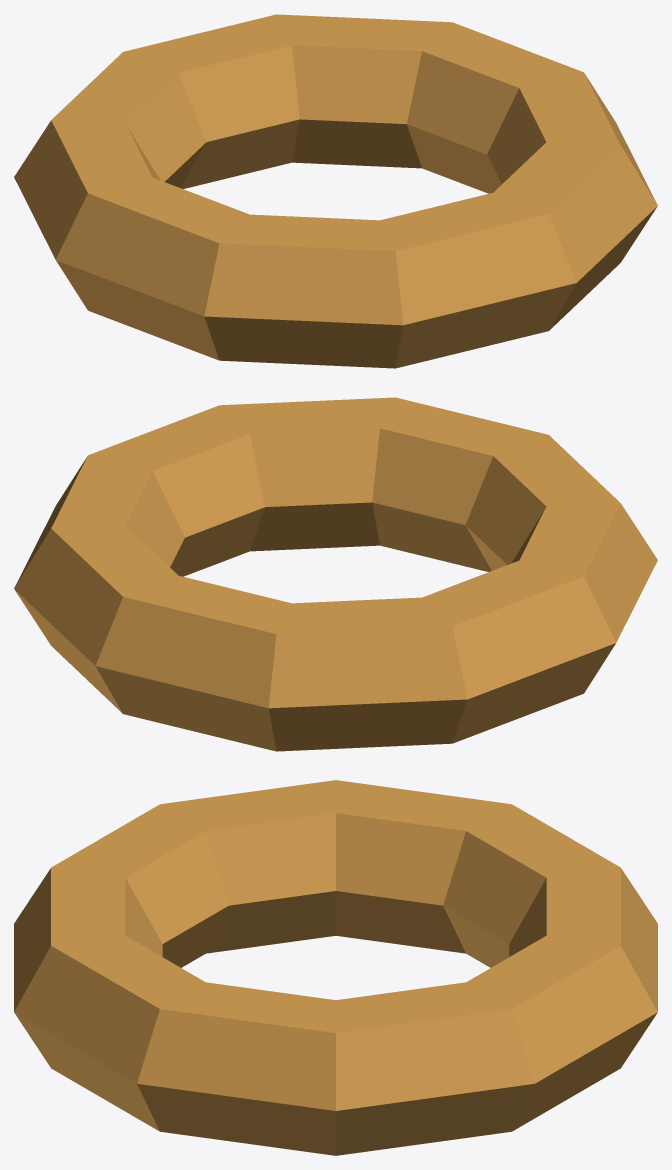
File: cereal_aros.fbx
3 views of the same model, one above another, from view 1: azimuth 30°, elevation 25°; view 2: azimuth 150°, elevation 25°; view 3: azimuth 270°, elevation 25° (orthographic). The views are drawn at different scales.
Visible parts, largest first — view 1: pTorus1; view 2: pTorus1; view 3: pTorus1.
Boxes of the visible parts, x1,y1,x2,y2 form: pTorus1: (14,14,657,368); pTorus1: (14,397,657,751); pTorus1: (14,780,657,1155).
Bounding box in the file's own units: 0.432 × 0.0863 × 0.4108.
